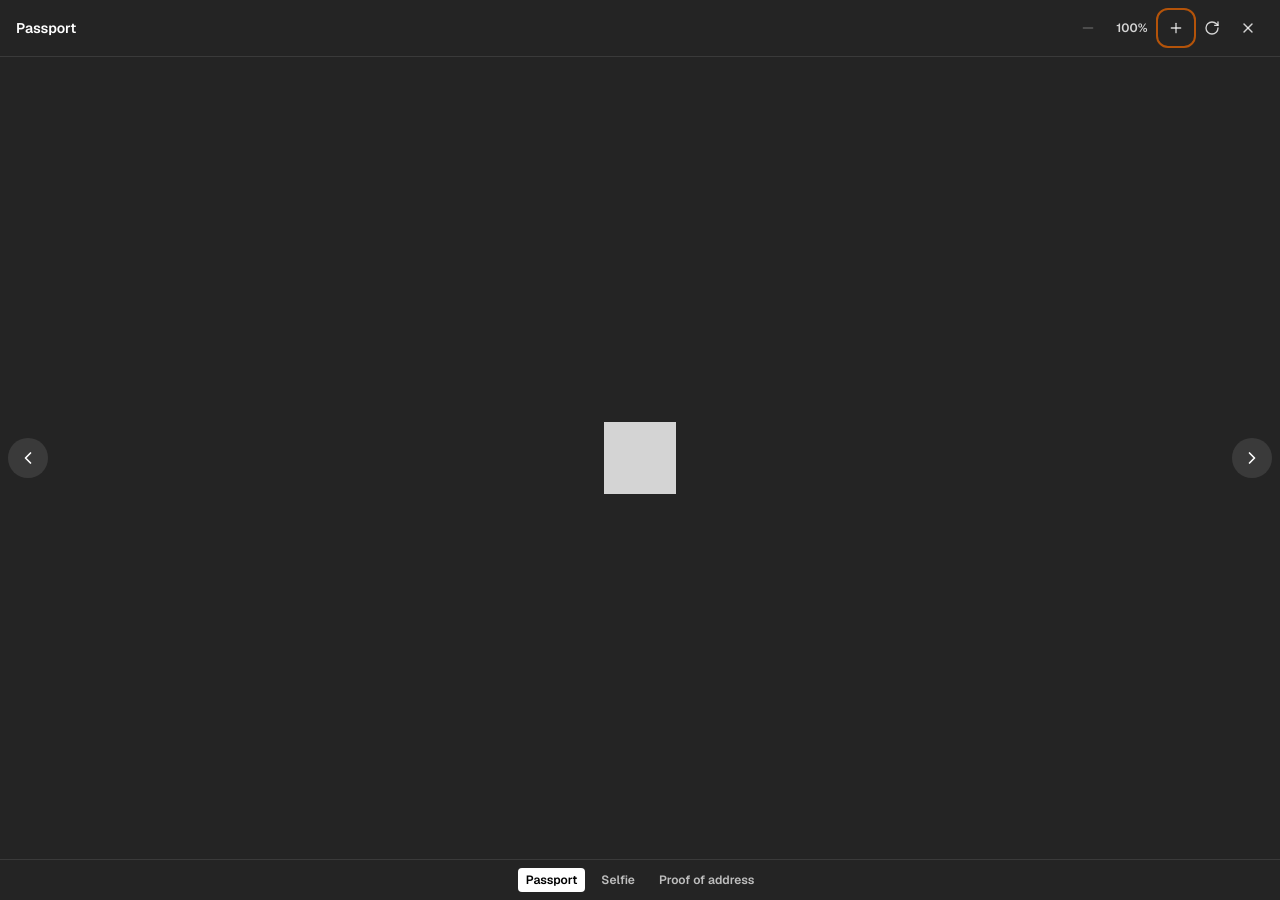
it: DocLightbox › zooms in when asked
Step 1. Click the button named "zoom in" → click(1176, 28), box [1160, 12, 1192, 44]
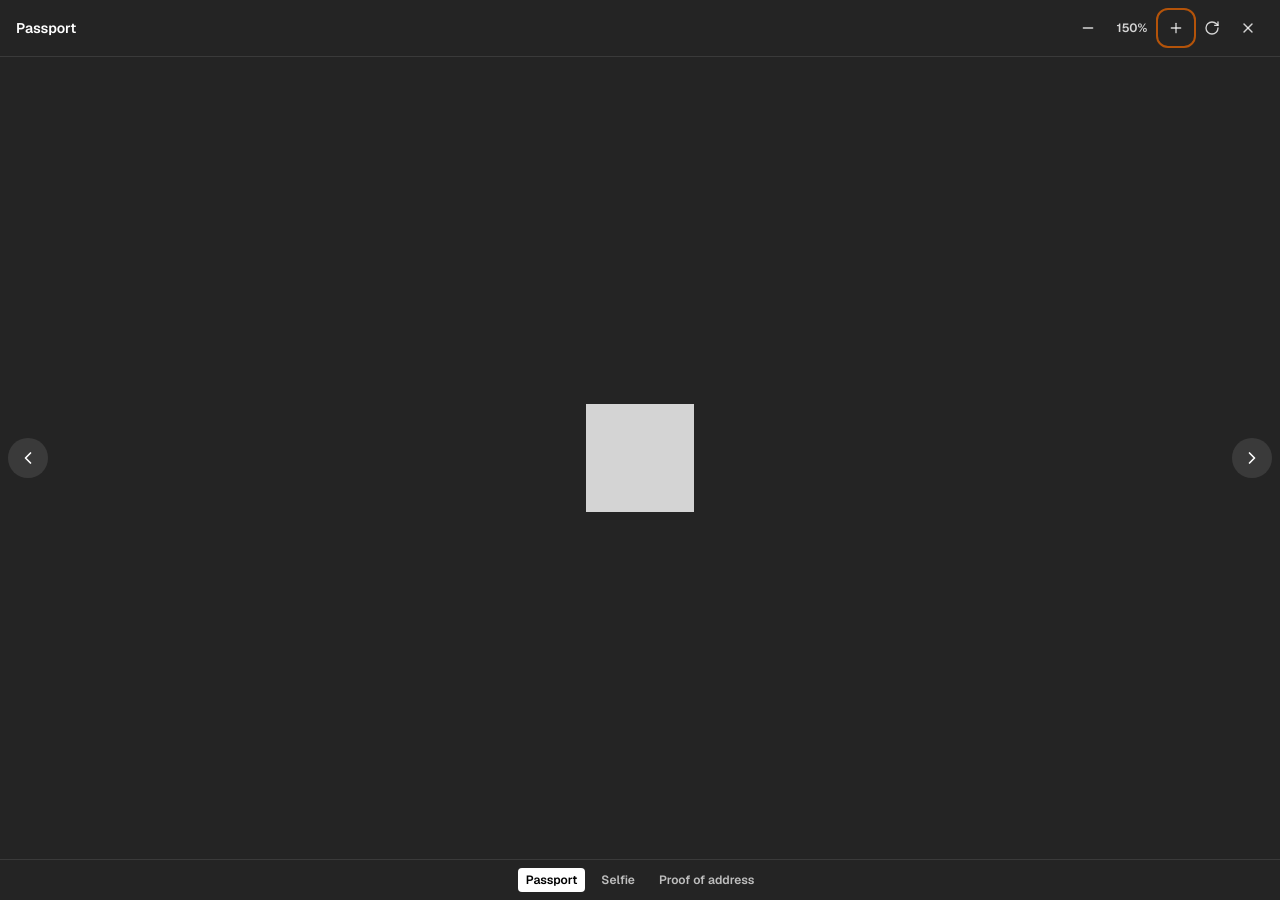
Now the text "150%" is shown, box [1117, 20, 1147, 36]
